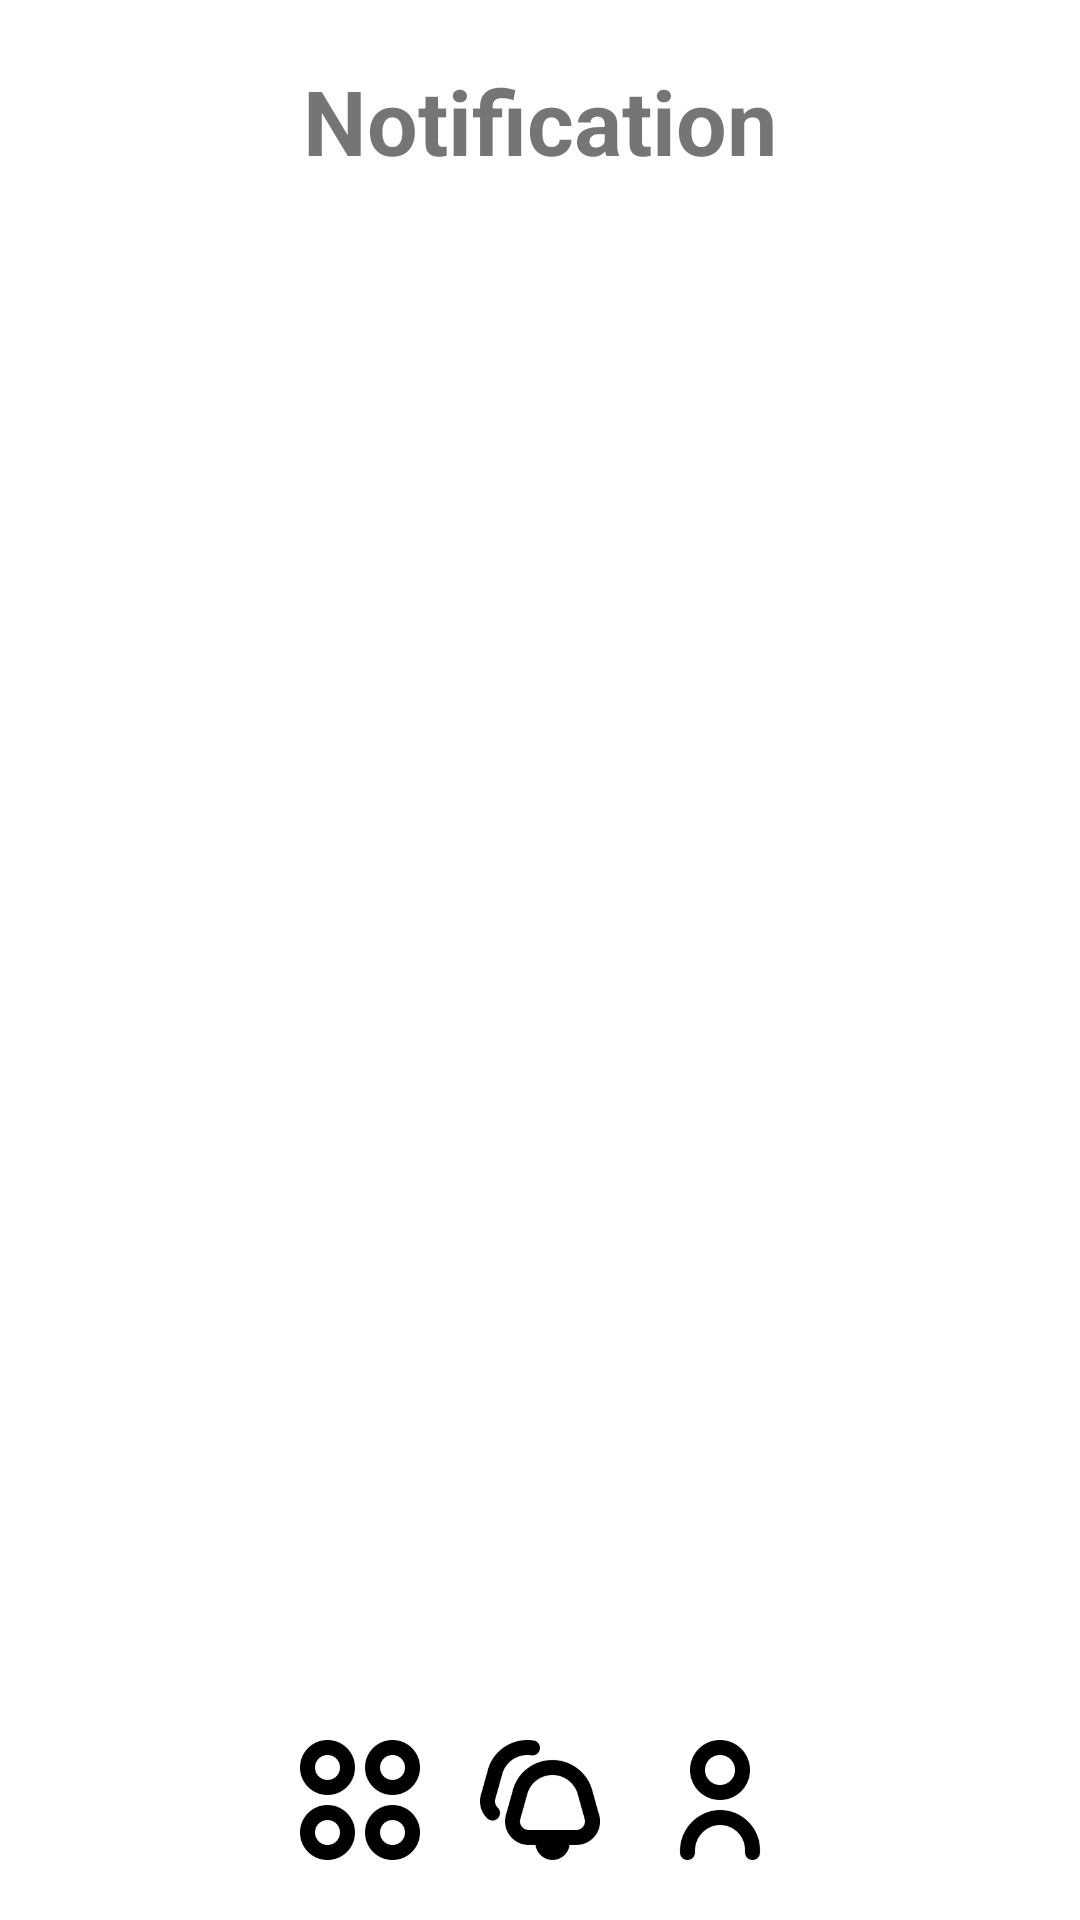

Icon click points for this 1080 × 1920 phone screenshot, format point (x, y):
menu: point (360, 1800)
notification: point (540, 1800)
user: point (720, 1800)
